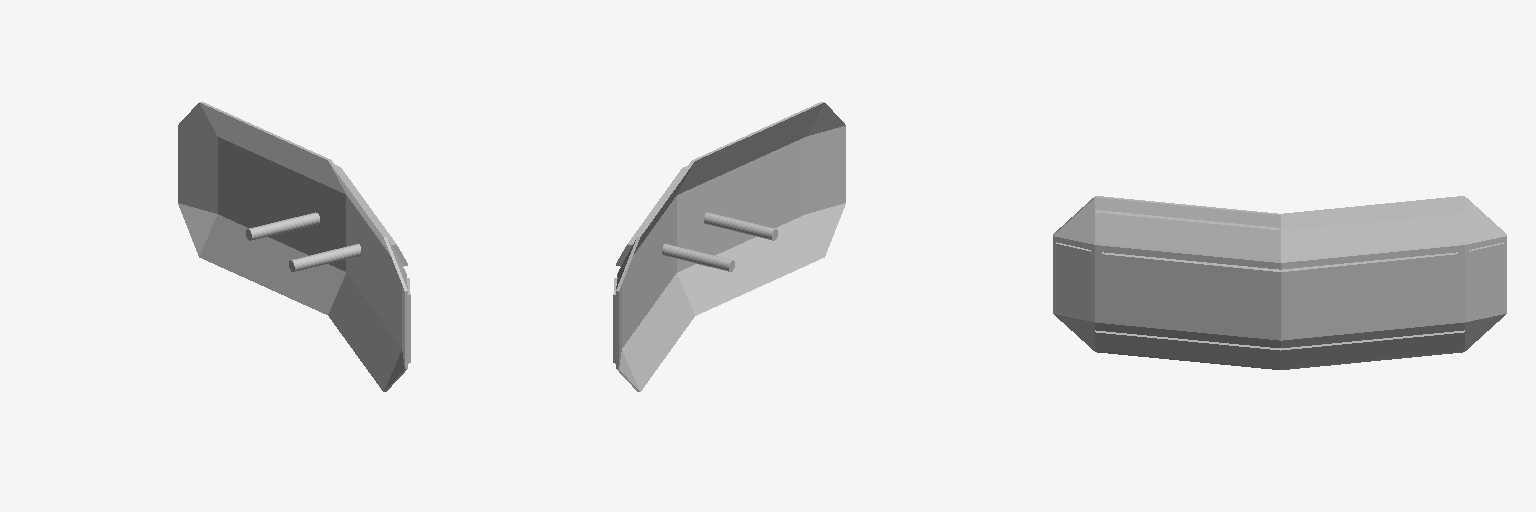
File: ShieldOne.obj
The picture shows the model from 3 angles: view 1: azimuth 30°, elevation 25°; view 2: azimuth 150°, elevation 25°; view 3: azimuth 270°, elevation 25°; orthographic projection.
Visible parts, largest first — view 1: Cylinder, Cylinder.002; view 2: Cylinder.002, Cylinder; view 3: Cylinder.002, Cylinder.
Boxes of the visible parts, x1,y1,x2,y2 form: Cylinder: [178, 102, 345, 314]; Cylinder.002: [289, 160, 410, 391]; Cylinder.002: [677, 102, 845, 315]; Cylinder: [613, 160, 734, 391]; Cylinder.002: [1053, 196, 1280, 369]; Cylinder: [1281, 196, 1506, 369].
Size of the model in its own units: 10.73 by 8 by 21.26.